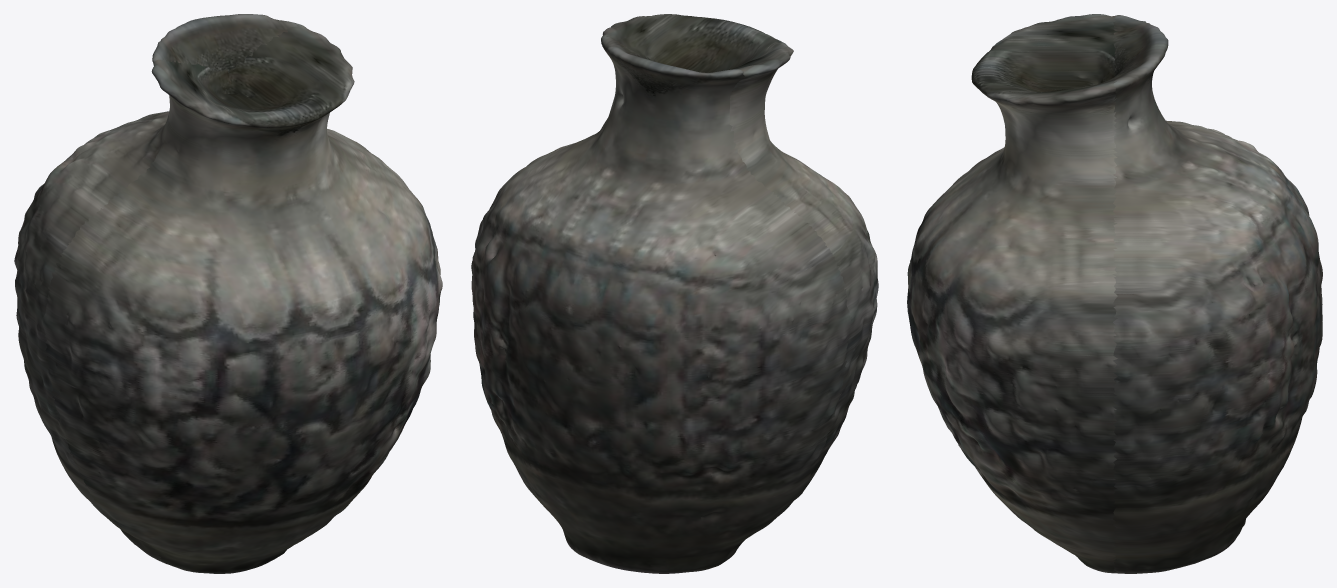
File: kfl-2258.glb
3 renders of one model, left to right at view 1: azimuth 30°, elevation 25°; view 2: azimuth 150°, elevation 25°; view 3: azimuth 270°, elevation 25°, orthographic. The views are drawn at different scales.
Visible parts, largest first — view 1: geometry_0; view 2: geometry_0; view 3: geometry_0.
Part boxes in pixels (left/top/right/bottom): geometry_0: left=14, top=14, right=442, bottom=573; geometry_0: left=471, top=14, right=878, bottom=573; geometry_0: left=907, top=14, right=1322, bottom=573.
Bounding box in the file's own units: 0.739 × 0.9958 × 0.7376.
Materials: 1 (1 with a texture image).
